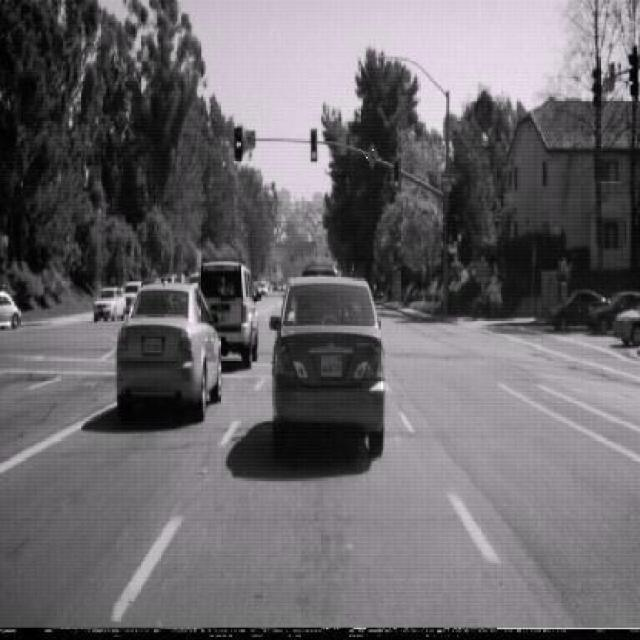laneEnds: (364, 142, 380, 170)
